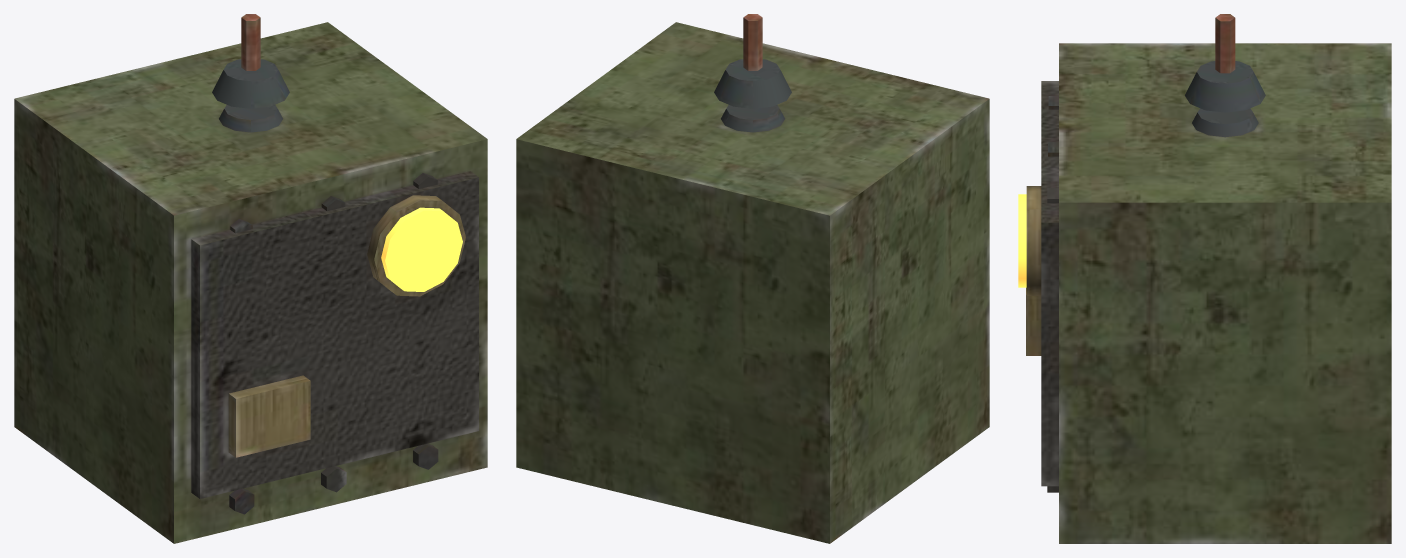
The model's file is feSignalReceiver.glb.
3 renders of one model, left to right at view 1: azimuth 30°, elevation 25°; view 2: azimuth 150°, elevation 25°; view 3: azimuth 270°, elevation 25°, orthographic. The views are drawn at different scales.
Visible parts, largest first — view 1: feSignalReceiver_Base; view 2: feSignalReceiver_Base; view 3: feSignalReceiver_Base.
Boxes of the visible parts, left/top/right/bottom form: feSignalReceiver_Base: left=14, top=14, right=487, bottom=543; feSignalReceiver_Base: left=516, top=14, right=989, bottom=543; feSignalReceiver_Base: left=1018, top=14, right=1391, bottom=543.
Bounding box in the file's own units: 0.3412 × 0.4466 × 0.338.
2 materials, 1 textured.
